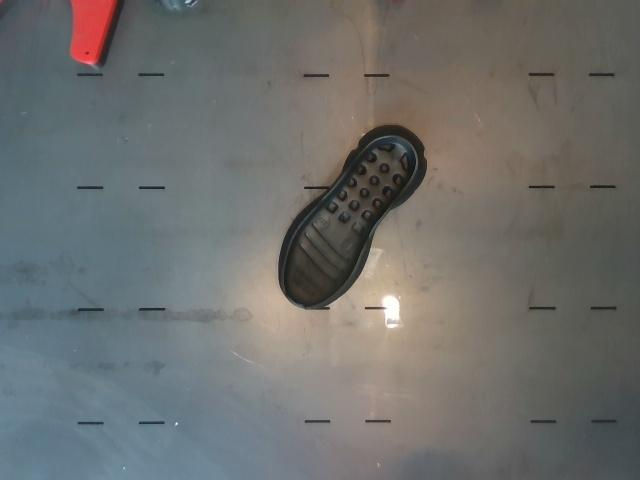shoes: (284, 137, 416, 307)
